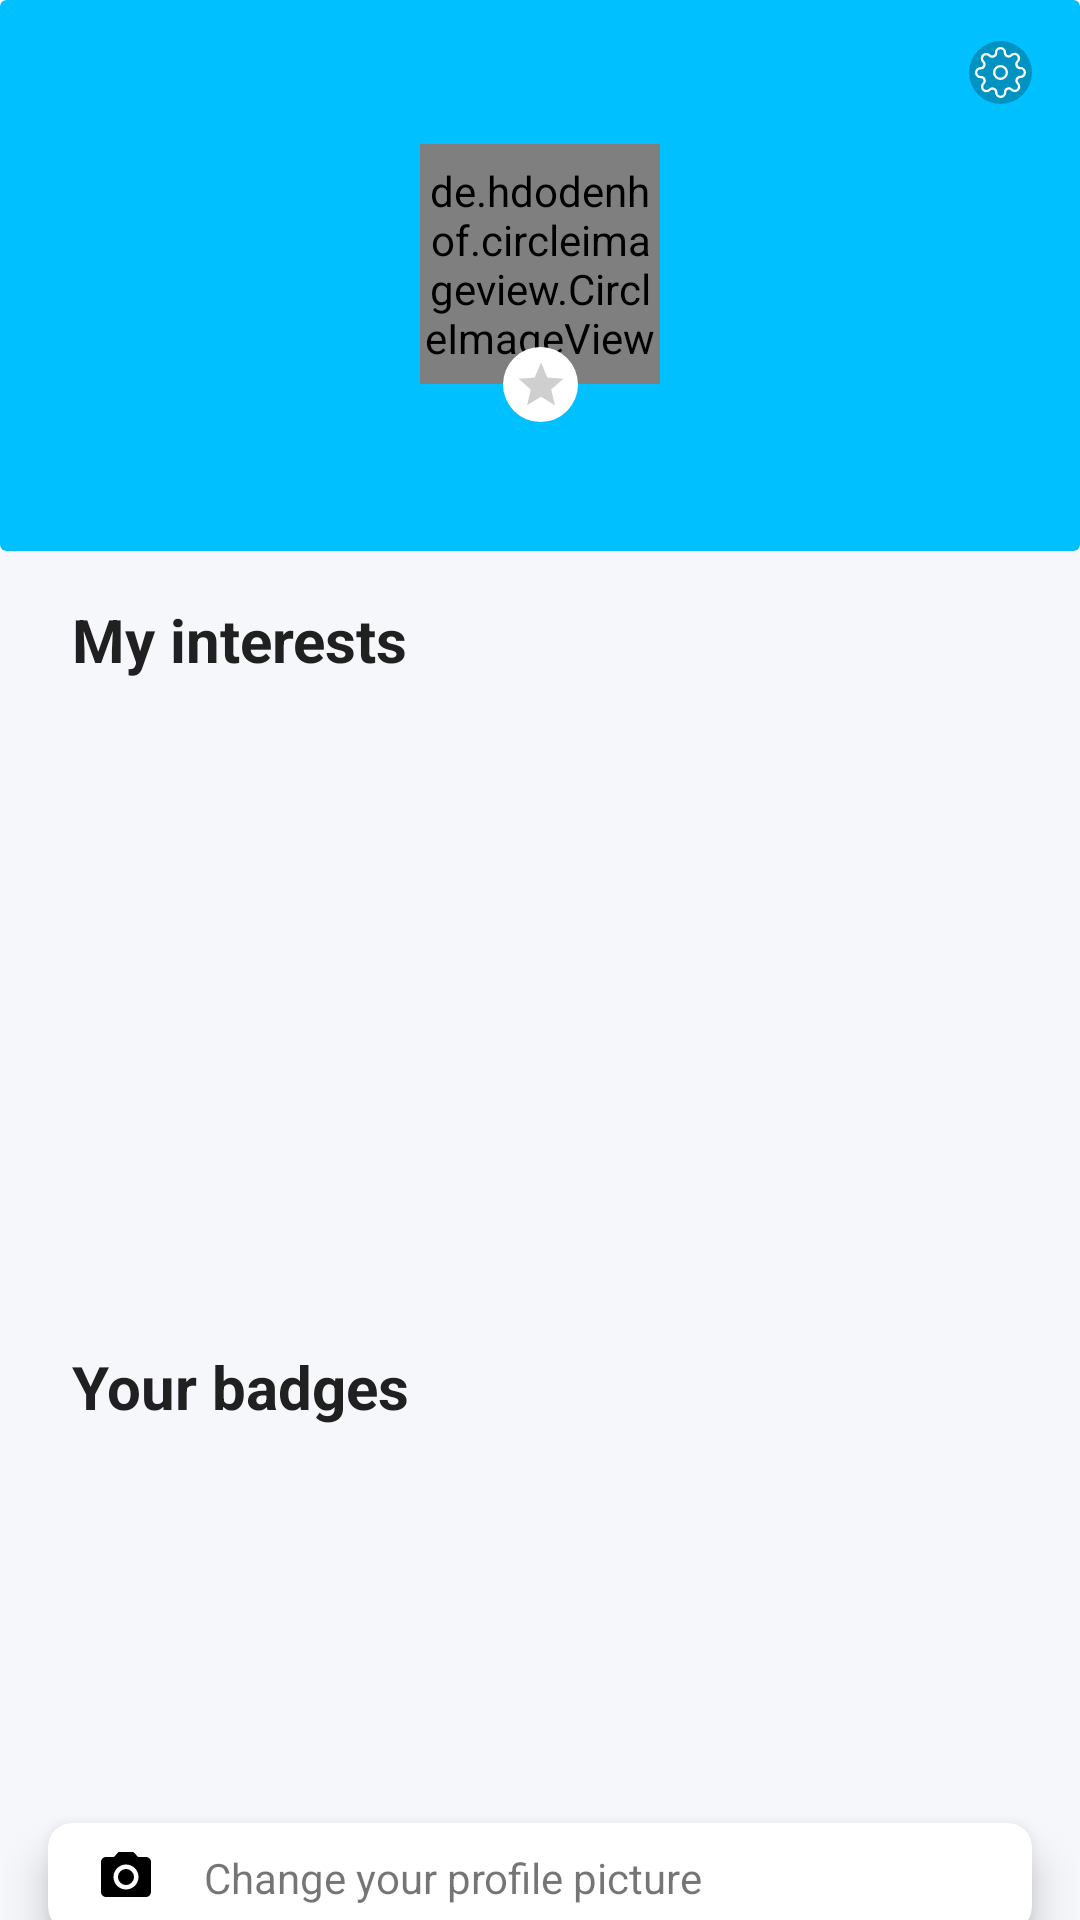

Where icons sit on this 1080px x 1920px app screen, as (x1, y1, x2, y2):
photo camera: (101, 1852, 151, 1897)
profile settings: (969, 41, 1032, 104)
star: (519, 364, 563, 405)
